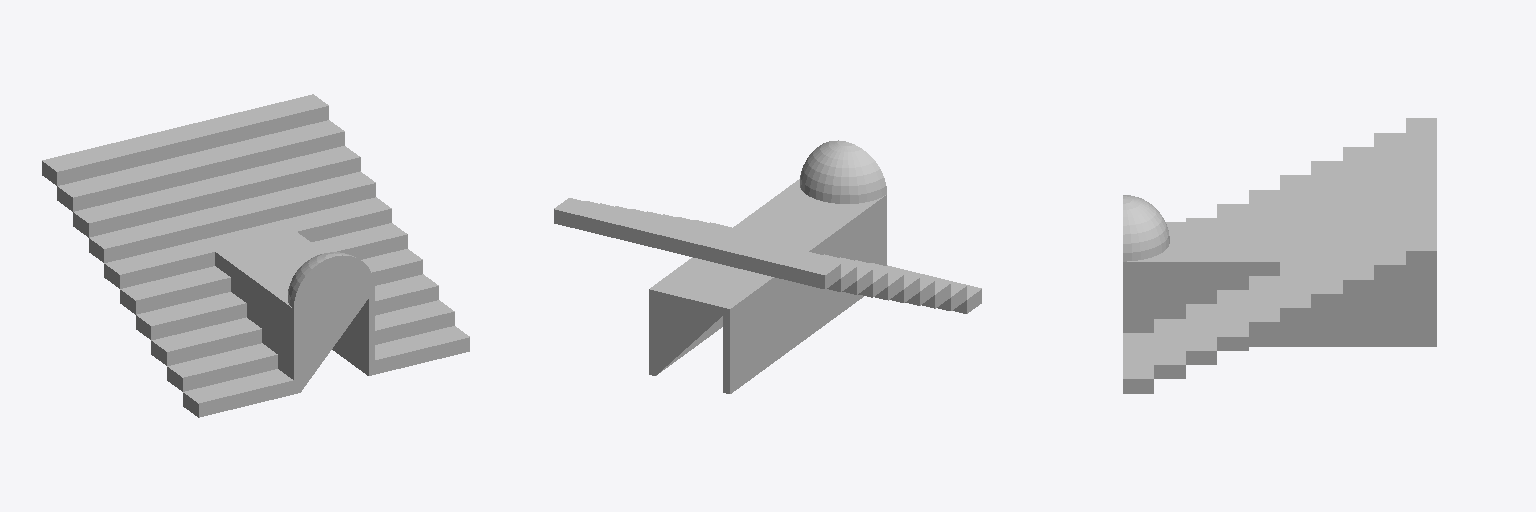
The model's file is Stair_Door.obj.
The picture shows the model from 3 angles: view 1: azimuth 30°, elevation 25°; view 2: azimuth 150°, elevation 25°; view 3: azimuth 270°, elevation 25°; orthographic projection.
Visible parts, largest first — view 1: Cube, Cube.001, Sphere; view 2: Cube.001, Cube, Sphere; view 3: Cube, Cube.001, Sphere.
Boxes of the visible parts, box(x1,y1,x2,y2) form: Cube: box(42, 94, 469, 417); Cube.001: box(200, 220, 374, 393); Sphere: box(288, 252, 374, 308); Cube.001: box(649, 179, 886, 393); Cube: box(554, 198, 981, 313); Sphere: box(800, 140, 886, 203); Cube: box(1123, 118, 1436, 393); Cube.001: box(1123, 222, 1436, 346); Sphere: box(1123, 195, 1169, 261).
Bounding box in the file's own units: 20 × 10 × 20.